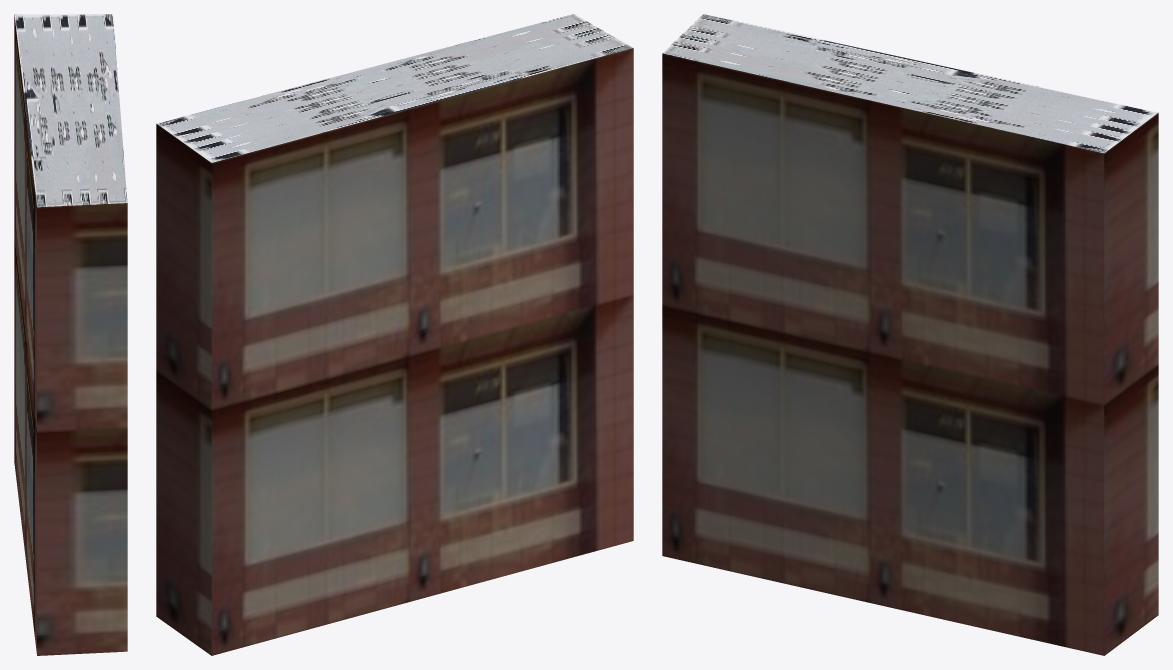
Rendered from ResTex__4061.fbx.
3 views of the same model, side by side, from view 1: azimuth 30°, elevation 25°; view 2: azimuth 150°, elevation 25°; view 3: azimuth 270°, elevation 25° (orthographic). The views are drawn at different scales.
Visible parts, largest first — view 1: CityEngineMaterial_13_m, CityEngineMaterial_4_m; view 2: CityEngineMaterial_13_m, CityEngineMaterial_4_m; view 3: CityEngineMaterial_13_m, CityEngineMaterial_4_m.
Part boxes in pixels (bbox=[...]): CityEngineMaterial_13_m: bbox=[14, 15, 127, 655]; CityEngineMaterial_4_m: bbox=[14, 14, 127, 207]; CityEngineMaterial_13_m: bbox=[156, 48, 633, 655]; CityEngineMaterial_4_m: bbox=[157, 14, 632, 162]; CityEngineMaterial_13_m: bbox=[662, 53, 1158, 655]; CityEngineMaterial_4_m: bbox=[662, 14, 1157, 153].
Size of the model in its own units: 3.57 by 6 by 5.37.
Materials: 2 (2 with a texture image).
